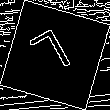L_SE: (29, 26, 81, 84)
